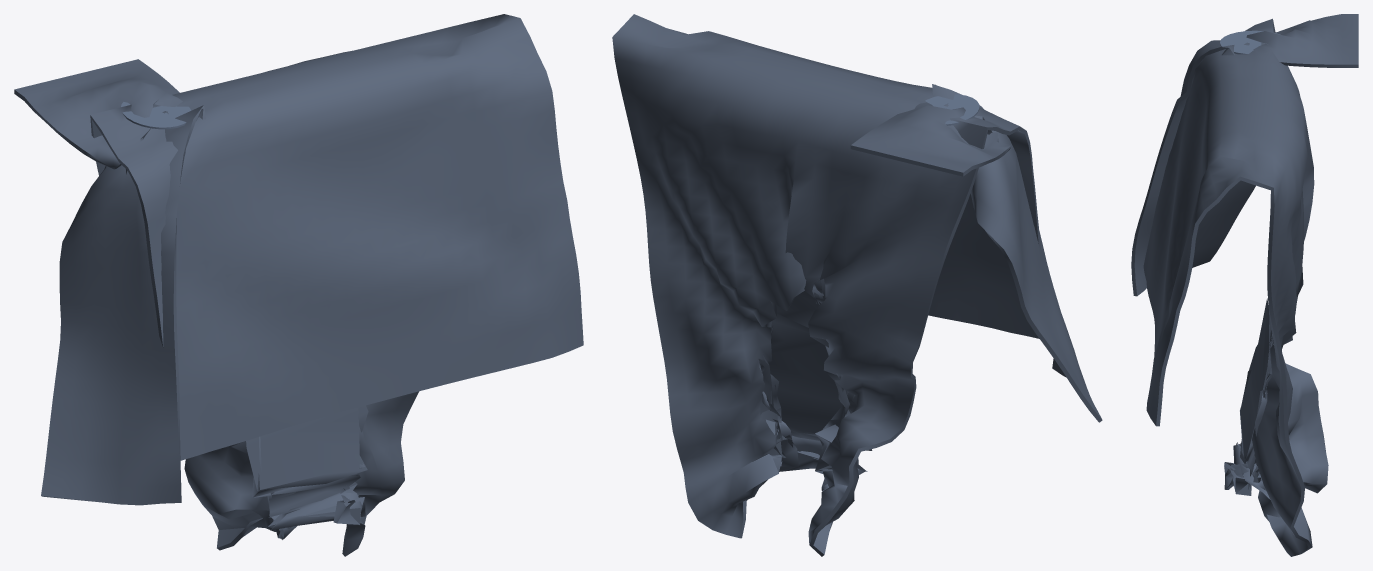
The model's file is Kit_JacketDraped.fbx.
3 renders of one model, left to right at view 1: azimuth 30°, elevation 25°; view 2: azimuth 150°, elevation 25°; view 3: azimuth 270°, elevation 25°, orthographic. The views are drawn at different scales.
Parts seen in each view (by area): view 1: Kit_JacketDraped_LOD0; view 2: Kit_JacketDraped_LOD0; view 3: Kit_JacketDraped_LOD0.
Boxes of the visible parts, box(x1,y1,x2,y2) form: Kit_JacketDraped_LOD0: box(14, 14, 583, 556); Kit_JacketDraped_LOD0: box(612, 14, 1102, 556); Kit_JacketDraped_LOD0: box(1131, 14, 1358, 556).
Size of what is drawn, in the model's own units: 0.6176 by 0.6046 by 0.2852.
